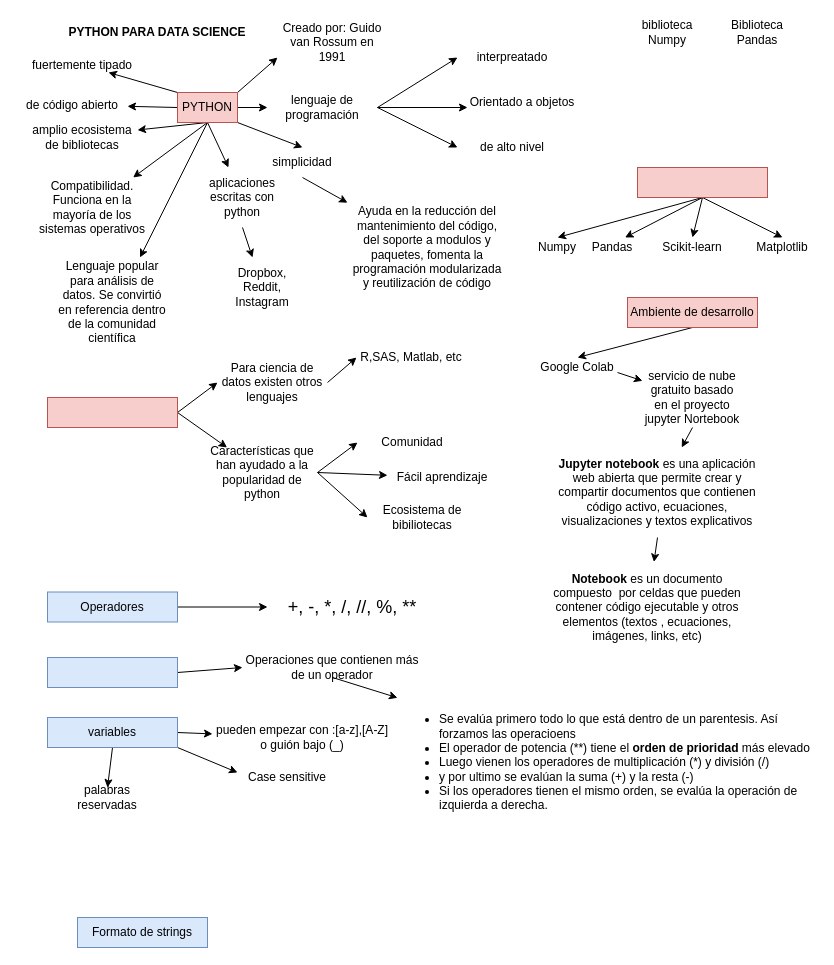
This 834x965 diagram has some shape labels left out. Here are the shapes that lost their labels. From the top down, the box of each, then its label:
(636, 166, 768, 198): Paquetes para Data Science
(46, 396, 178, 428): Por que usar python para Data Science?
(46, 656, 178, 688): Expresiones matemáticas
